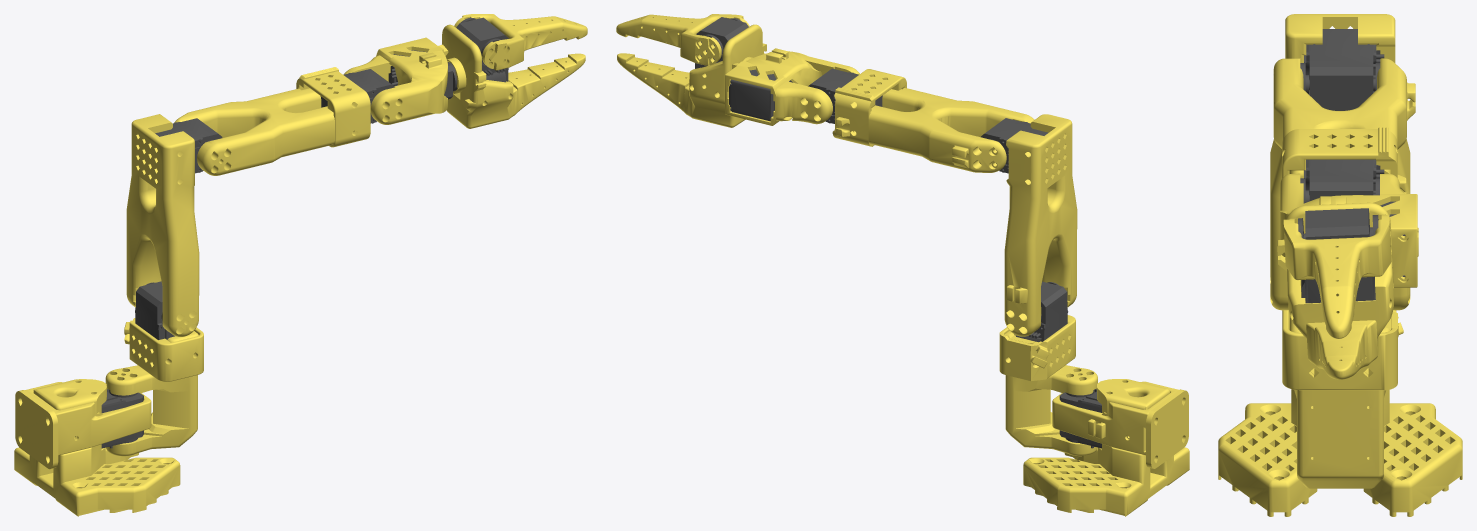
The picture shows the model from 3 angles, left to right: view 1: azimuth 30°, elevation 25°; view 2: azimuth 150°, elevation 25°; view 3: azimuth 270°, elevation 25°; orthographic projection. The views are drawn at different scales.
Visible parts, largest first — view 1: visual__upper_arm_link__1, visual__base_link__1, visual__lower_arm_link__0, visual__gripper_link__1, visual__wrist_link__1, visual__shoulder_link__2, visual__base_link__0, visual__moving_jaw_so101_v1_link__0, visual__shoulder_link__1, visual__lower_arm_link__1, visual__base_link__3, visual__shoulder_link__0 (+4 smaller); view 2: visual__upper_arm_link__1, visual__base_link__1, visual__lower_arm_link__0, visual__gripper_link__1, visual__wrist_link__1, visual__shoulder_link__2, visual__base_link__0, visual__moving_jaw_so101_v1_link__0, visual__shoulder_link__1, visual__lower_arm_link__1, visual__base_link__3, visual__wrist_link__0 (+5 smaller); view 3: visual__base_link__1, visual__shoulder_link__2, visual__gripper_link__1, visual__moving_jaw_so101_v1_link__0, visual__lower_arm_link__0, visual__upper_arm_link__1, visual__upper_arm_link__0, visual__wrist_link__1, visual__shoulder_link__1, visual__lower_arm_link__1, visual__gripper_link__0, visual__lower_arm_link__2.
Part boxes in pixels (x1,y1,x2,y2): visual__upper_arm_link__1: [126, 114, 199, 336]; visual__base_link__1: [14, 379, 180, 516]; visual__lower_arm_link__0: [174, 88, 355, 175]; visual__gripper_link__1: [442, 24, 585, 128]; visual__wrist_link__1: [343, 37, 448, 124]; visual__shoulder_link__2: [105, 331, 198, 456]; visual__base_link__0: [25, 382, 151, 455]; visual__moving_jaw_so101_v1_link__0: [454, 14, 587, 70]; visual__shoulder_link__1: [124, 318, 203, 381]; visual__lower_arm_link__1: [296, 67, 370, 147]; visual__base_link__3: [15, 390, 58, 469]; visual__shoulder_link__0: [135, 281, 174, 339]; visual__upper_arm_link__1: [1004, 114, 1077, 336]; visual__base_link__1: [1023, 379, 1189, 516]; visual__lower_arm_link__0: [834, 88, 1034, 172]; visual__gripper_link__1: [617, 24, 766, 127]; visual__wrist_link__1: [725, 48, 859, 125]; visual__shoulder_link__2: [1004, 330, 1097, 456]; visual__base_link__0: [1052, 381, 1178, 455]; visual__moving_jaw_so101_v1_link__0: [616, 14, 749, 65]; visual__shoulder_link__1: [999, 315, 1075, 380]; visual__lower_arm_link__1: [832, 69, 906, 146]; visual__base_link__3: [1146, 389, 1188, 468]; visual__wrist_link__0: [729, 69, 792, 121]; visual__base_link__1: [1218, 389, 1462, 516]; visual__shoulder_link__2: [1290, 317, 1391, 488]; visual__gripper_link__1: [1277, 202, 1393, 379]; visual__moving_jaw_so101_v1_link__0: [1283, 214, 1391, 338]; visual__lower_arm_link__0: [1273, 58, 1415, 178]; visual__upper_arm_link__1: [1270, 14, 1418, 310]; visual__upper_arm_link__0: [1300, 29, 1384, 110]; visual__wrist_link__1: [1280, 173, 1417, 287]; visual__shoulder_link__1: [1282, 310, 1403, 390]; visual__lower_arm_link__1: [1282, 127, 1406, 193]; visual__gripper_link__0: [1298, 208, 1378, 303]; visual__lower_arm_link__2: [1300, 159, 1384, 203].
Size of what is drawn, in the model's own units: 0.4296 by 0.2681 by 0.1109.
